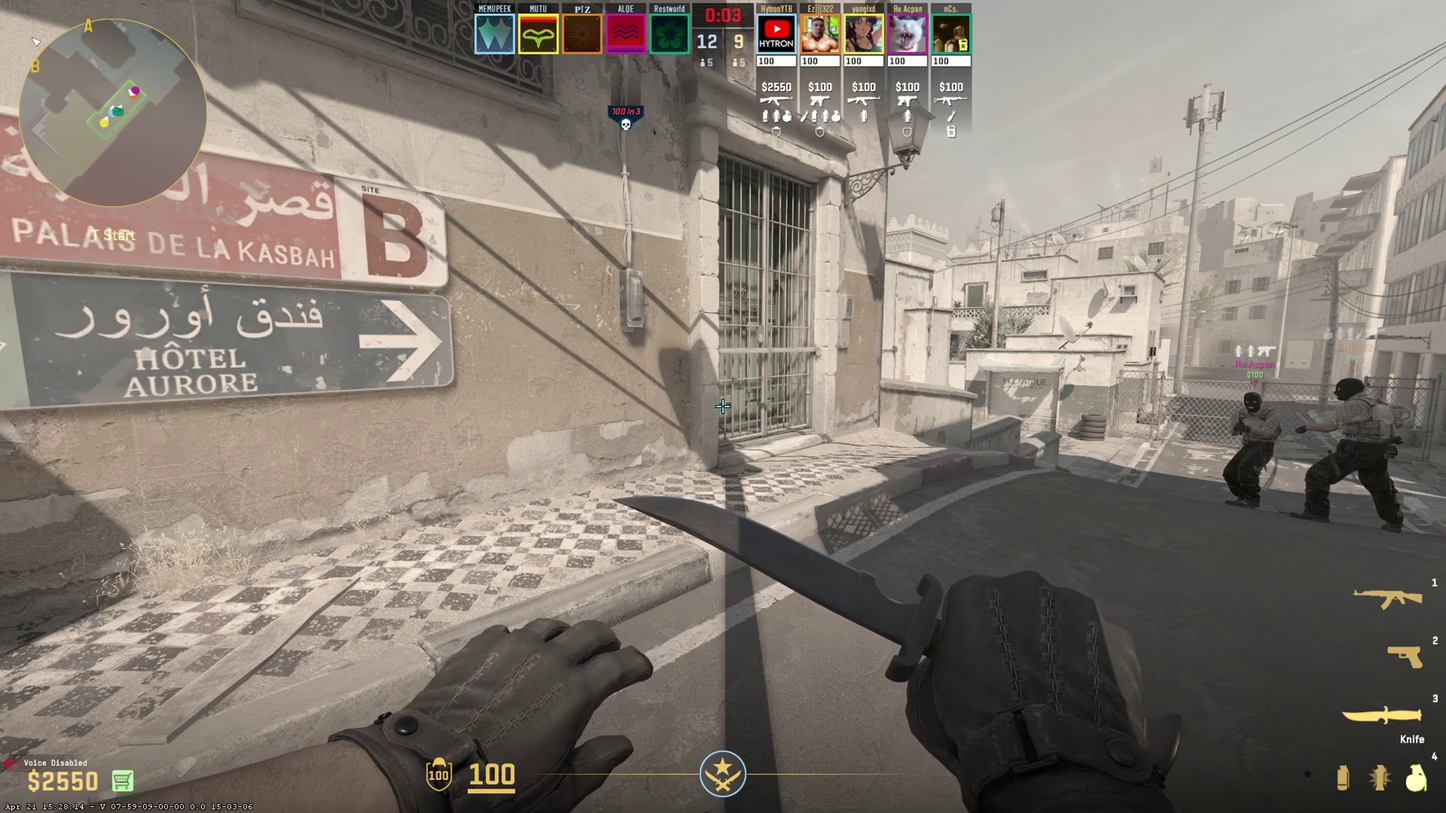Terrorist: (1306, 378, 1401, 534), (1225, 392, 1278, 507)
